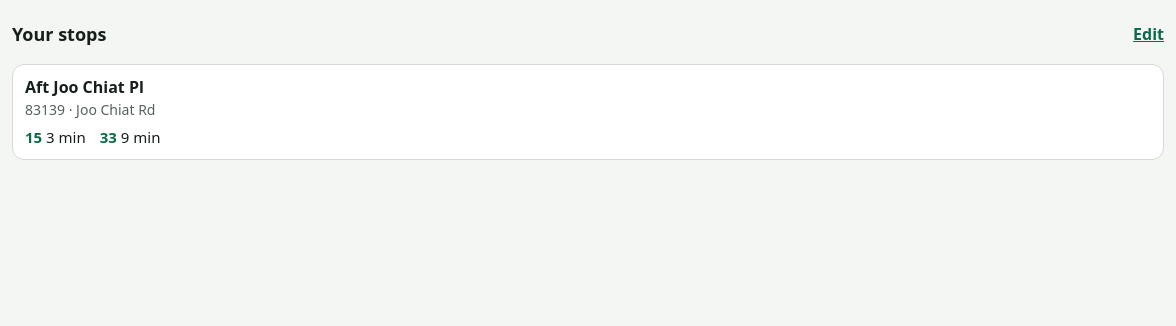
FavouritesPanel › editing › says when a change did not save
Click the button "Edit". click: click(1149, 34)
box: [1133, 12, 1164, 56]
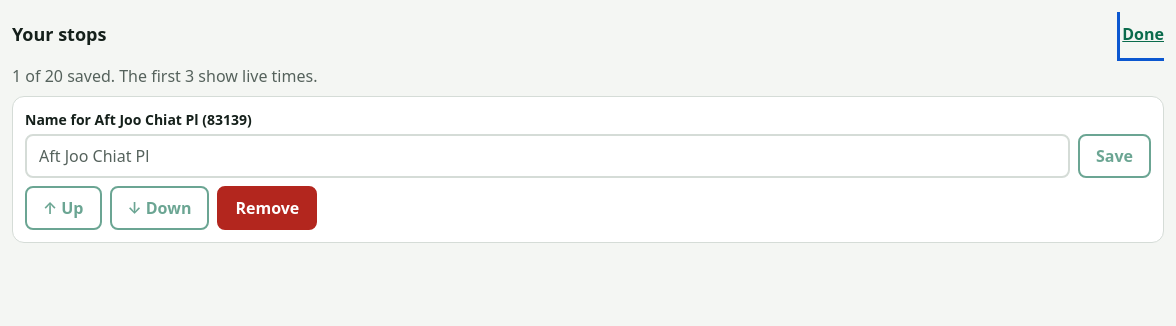
Click the button with aria-label "Remove Aft Joo Chiat Pl". click: click(267, 208)
box: [217, 186, 317, 230]
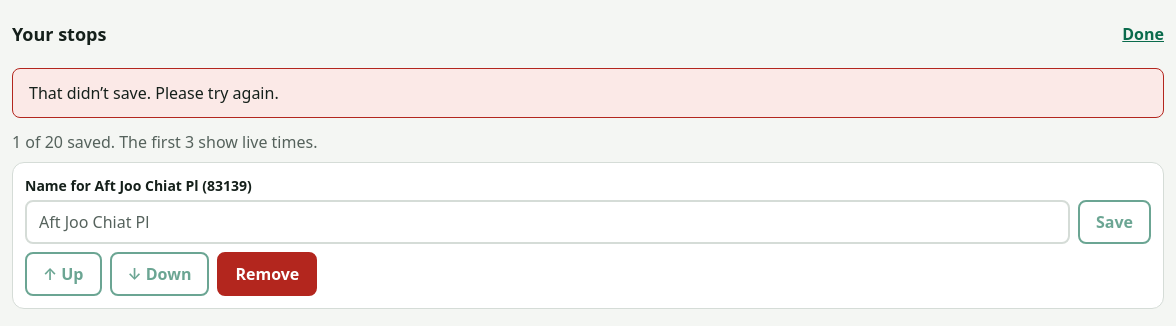
Check: the button with aria-label "Remove Aft Joo Chiat Pl" is enabled, box [217, 252, 317, 296]
Check: the message shows "That didn’t save", box [29, 82, 279, 104]
